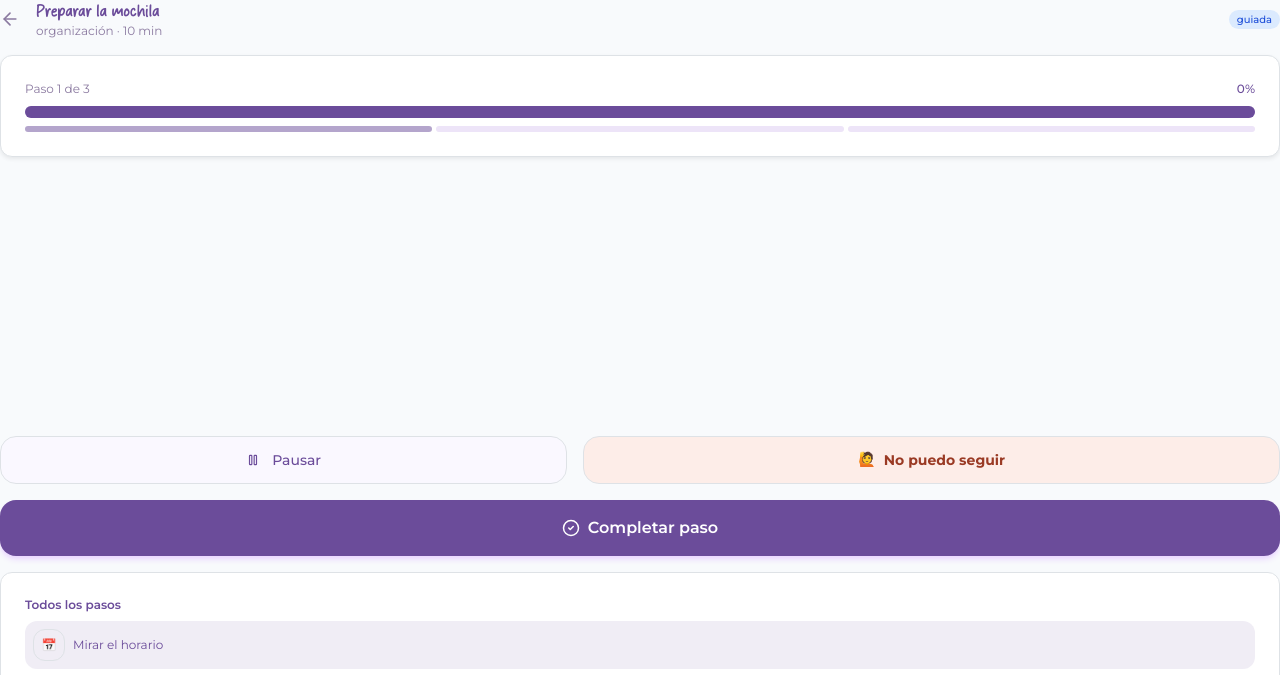
Test case: No puedo seguir › sin Plan B no muestra la tarjeta verde
Click the button "🙋 No puedo seguir": [932, 460] box left=583, top=436, right=1279, bottom=484
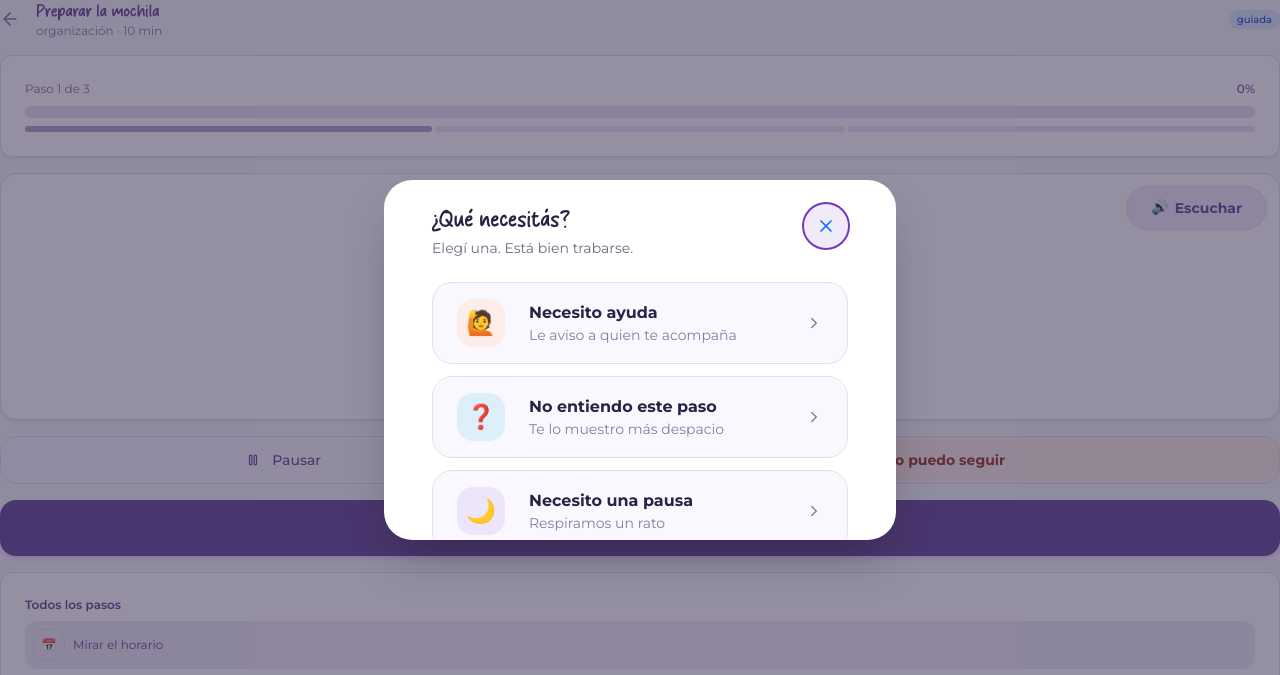
Check: the text "Le aviso a quien te acompaña" is shown, box left=529, top=326, right=737, bottom=344
